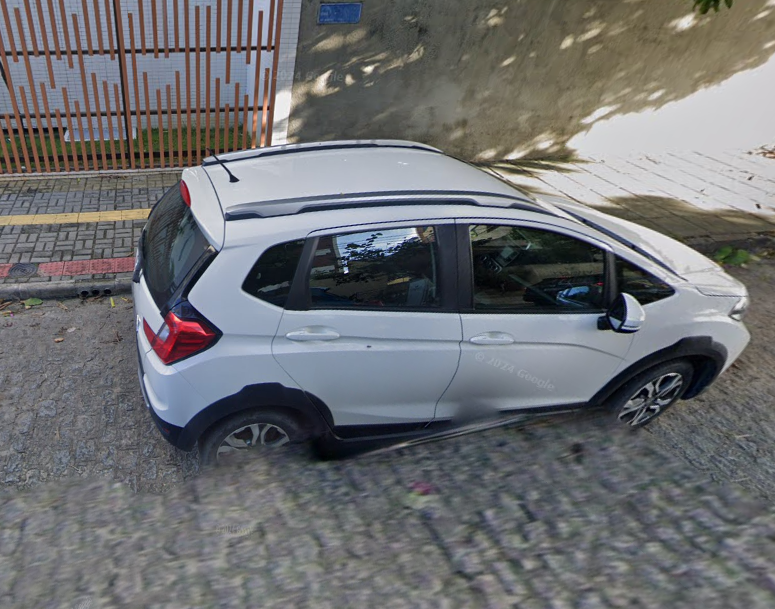car: (122, 134, 754, 495)
